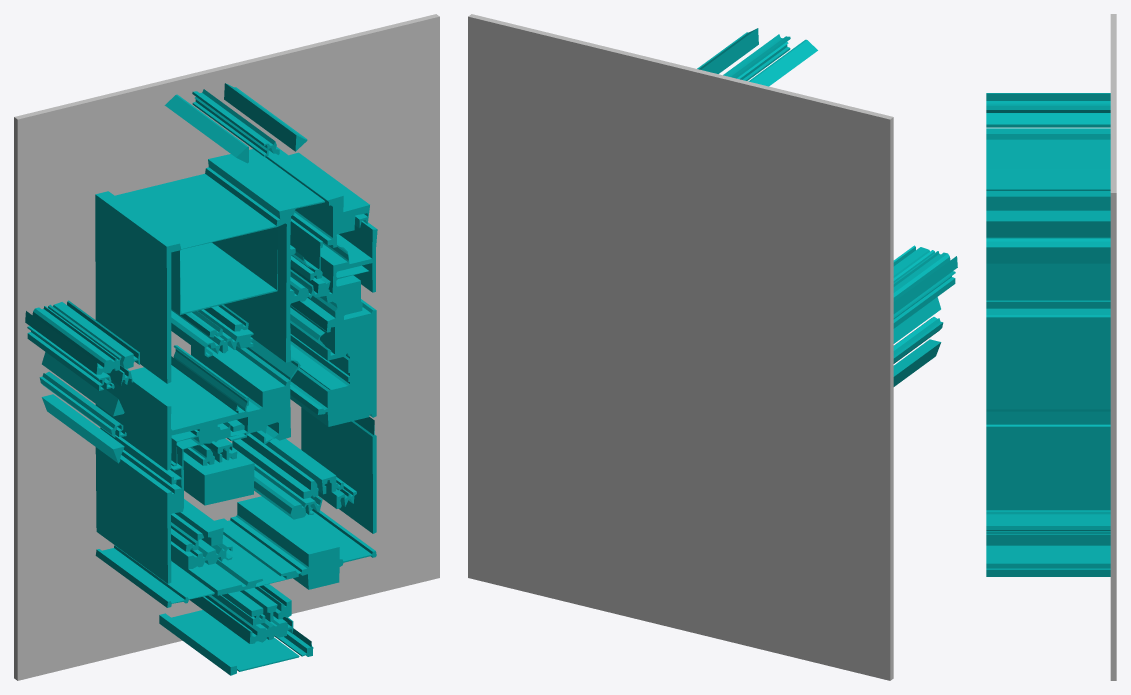
3 views of the same model, side by side, from view 1: azimuth 30°, elevation 25°; view 2: azimuth 150°, elevation 25°; view 3: azimuth 270°, elevation 25° (orthographic). The views are drawn at different scales.
Parts seen in each view (by area): view 1: world; view 2: world; view 3: world.
Part boxes in pixels (x1,y1,x2,y2): world: [14, 14, 439, 680]; world: [468, 14, 957, 680]; world: [986, 14, 1116, 680].
Size of the model in its own units: 10.23 by 13 by 3.15.
